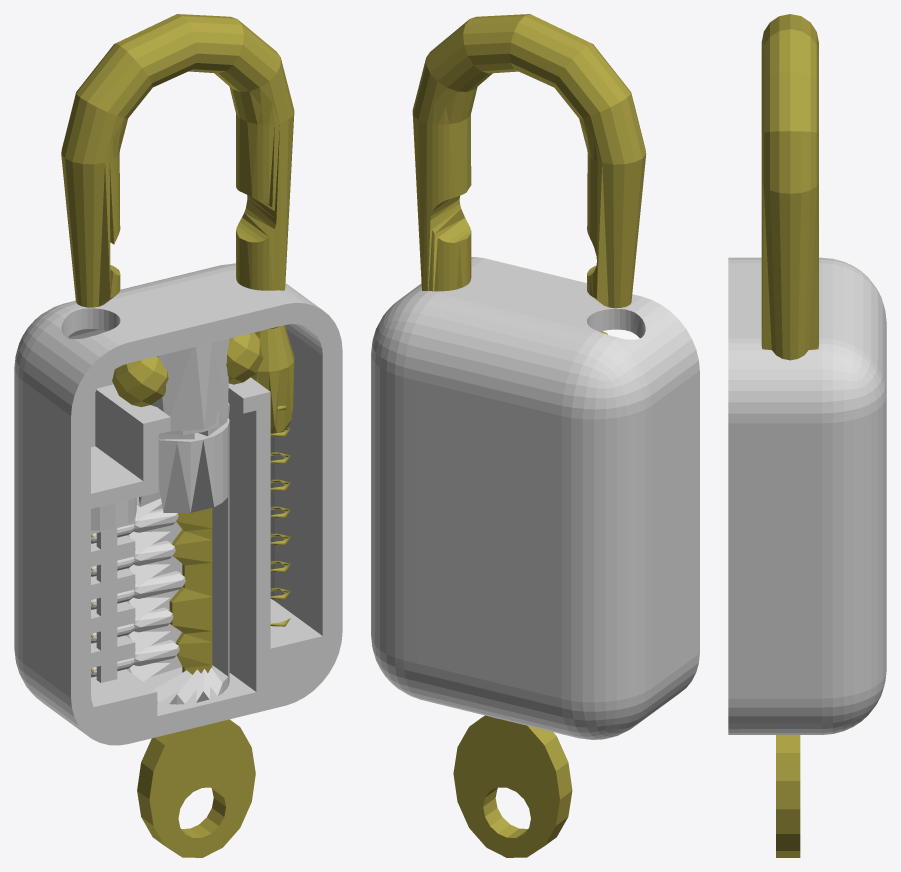
Rendered from klodka2.fbx.
3 views of the same model, side by side, from view 1: azimuth 30°, elevation 25°; view 2: azimuth 150°, elevation 25°; view 3: azimuth 270°, elevation 25° (orthographic). The views are drawn at different scales.
Parts seen in each view (by area): view 1: obudowa, luk, mechanizm, klucz, Cylinder, kulki, sprezyna glowna; view 2: obudowa, luk, klucz; view 3: obudowa, luk, klucz.
Part boxes in pixels (<box>): obudowa: <box>14,263,342,745</box>; luk: <box>61,14,294,433</box>; mechanizm: <box>126,418,229,704</box>; klucz: <box>137,508,255,857</box>; Cylinder: <box>151,339,229,431</box>; kulki: <box>112,332,263,406</box>; sprezyna glowna: <box>270,405,290,626</box>; obudowa: <box>371,257,699,739</box>; luk: <box>412,14,646,308</box>; klucz: <box>453,715,572,857</box>; obudowa: <box>728,257,886,734</box>; luk: <box>761,14,818,360</box>; klucz: <box>776,735,800,857</box>.
Size of the model in its own units: 6.65 by 19.64 by 3.44.
